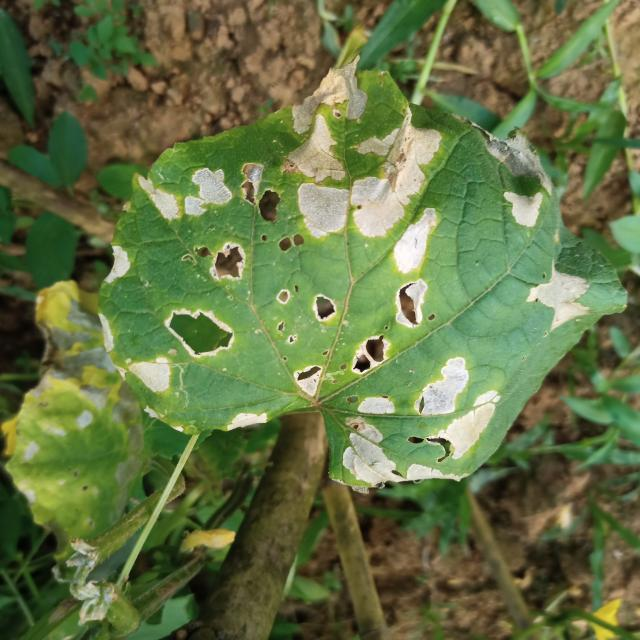disease_cucumber: (109, 67, 569, 480)
